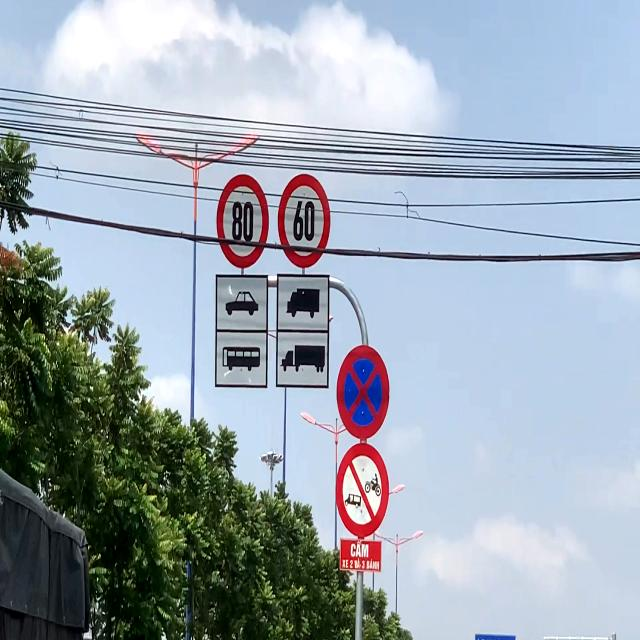P.127: (216, 174, 269, 268), (278, 173, 330, 268)
P.130: (334, 340, 392, 442)
